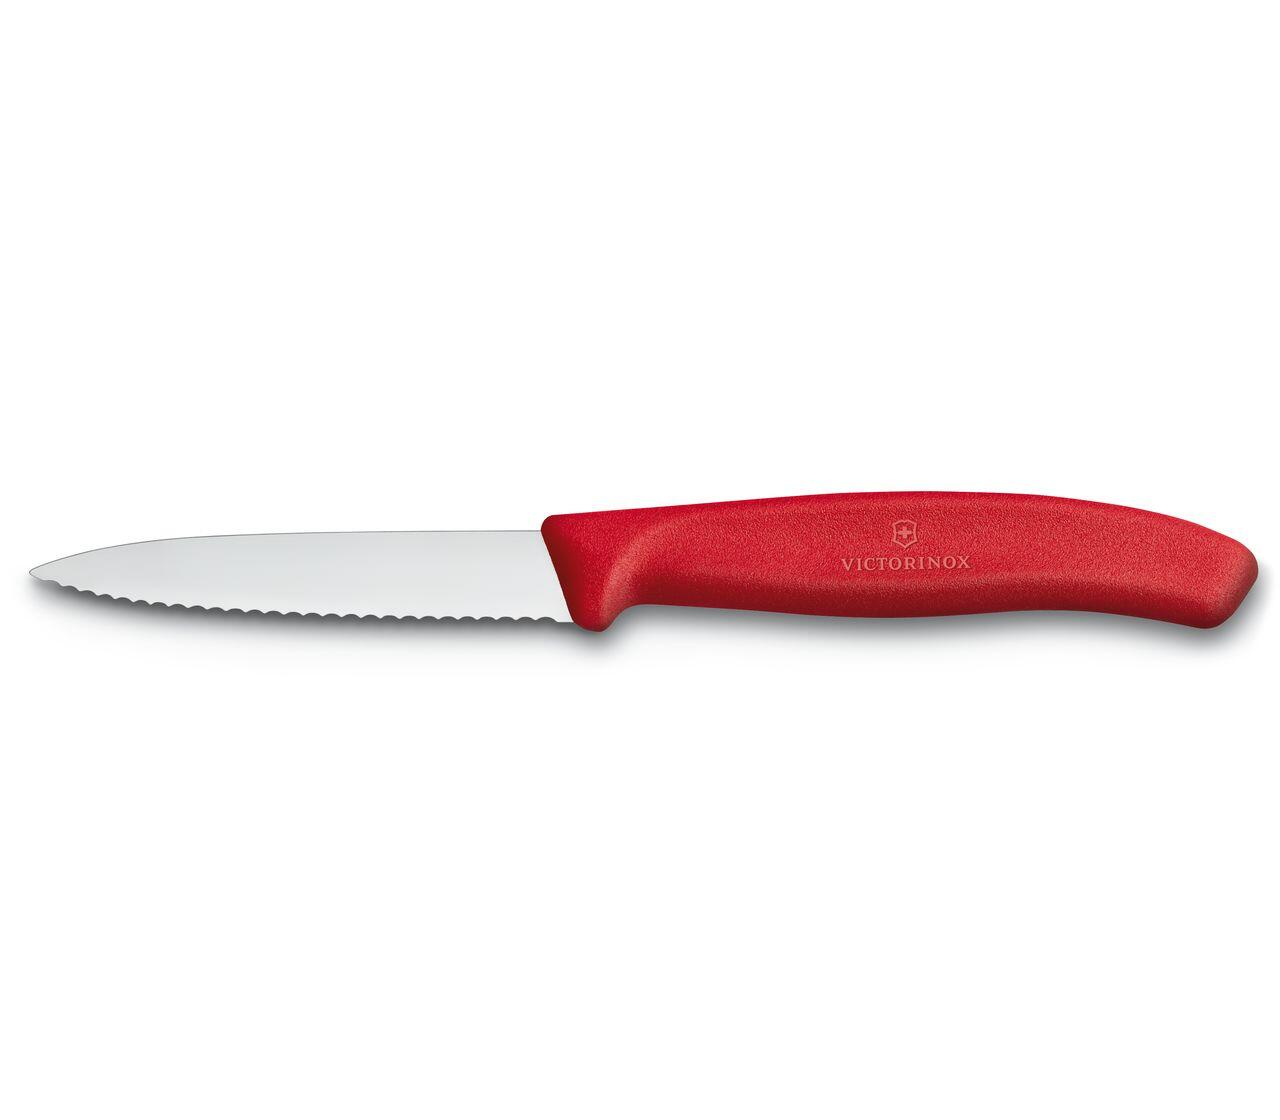knife: (24, 486, 1254, 637)
